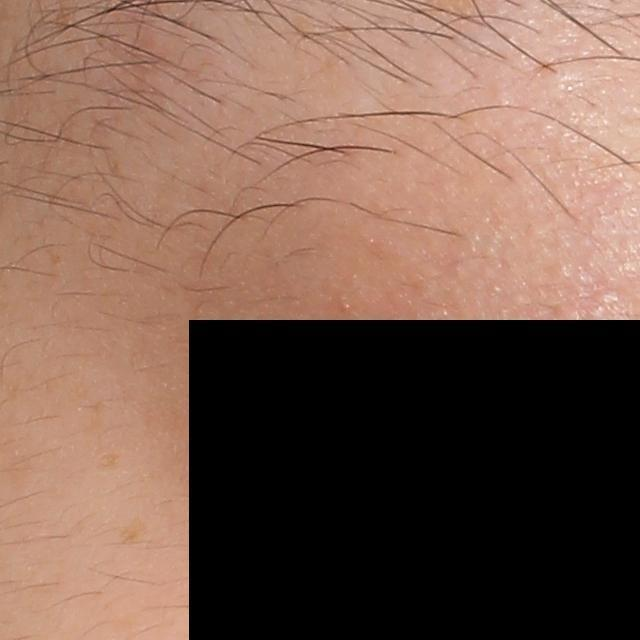melasma: (117, 514, 153, 546)
